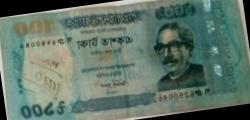100 taka: (2, 18, 250, 116)
